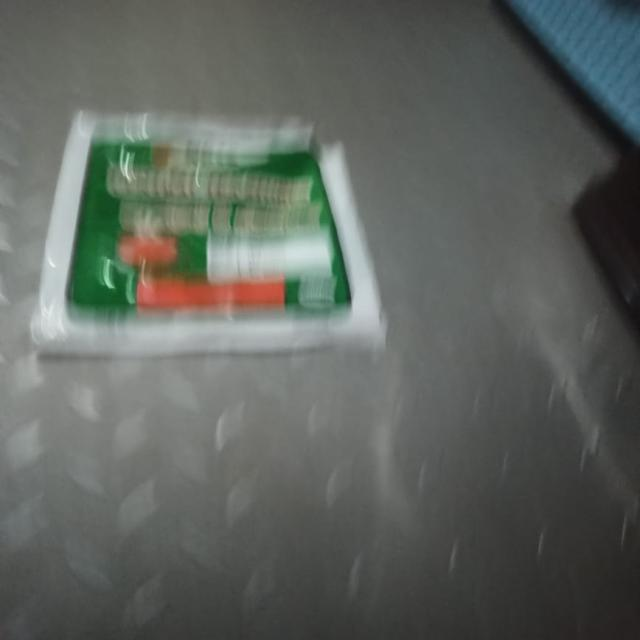Central Tea: (17, 101, 369, 414)
